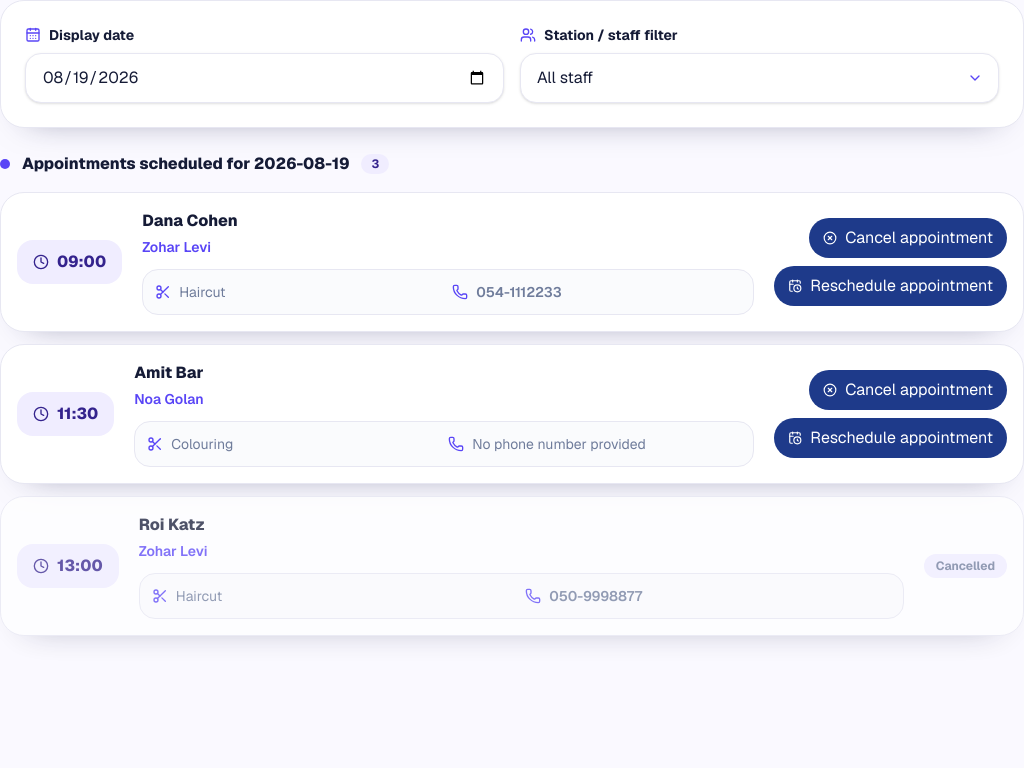
business appointment diary › cuts the day down to one staff member in place
Select "Noa Golan" in the dropdown labelled "Station / staff filter": (760, 78) [520,53,999,103]
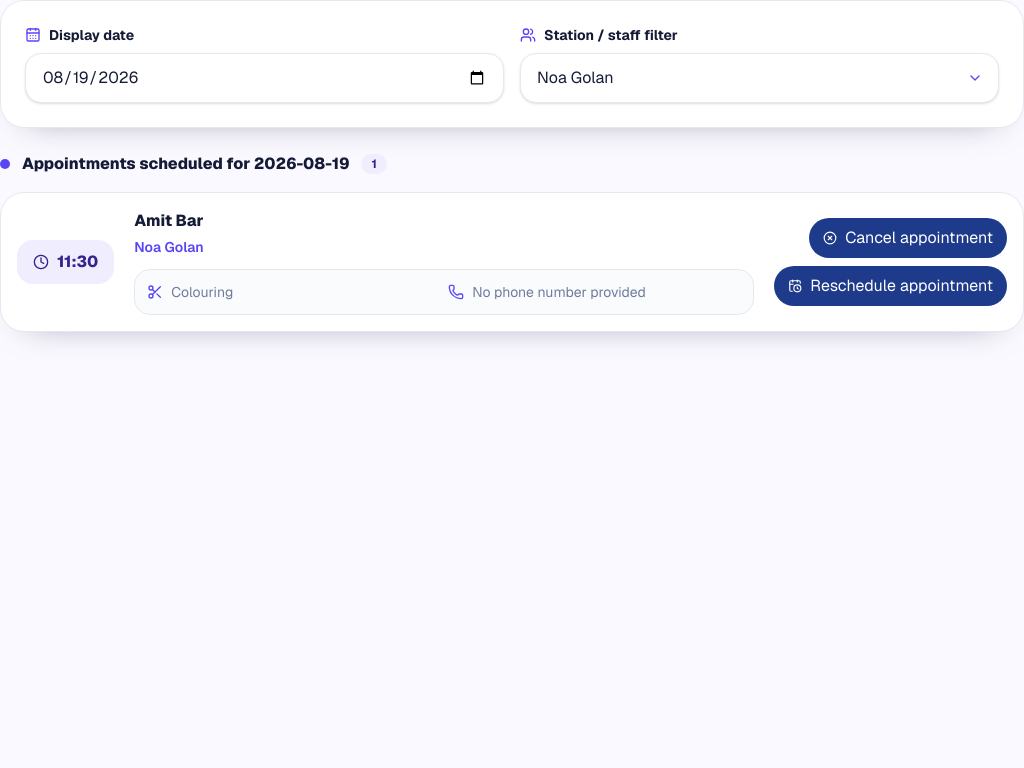
Expected: the heading "Amit Bar" is shown, [134,210,204,231]
Result: the heading "Dana Cohen" is gone
